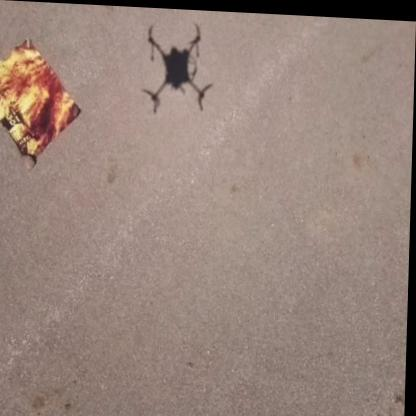fire-poster: (0, 35, 84, 170)
